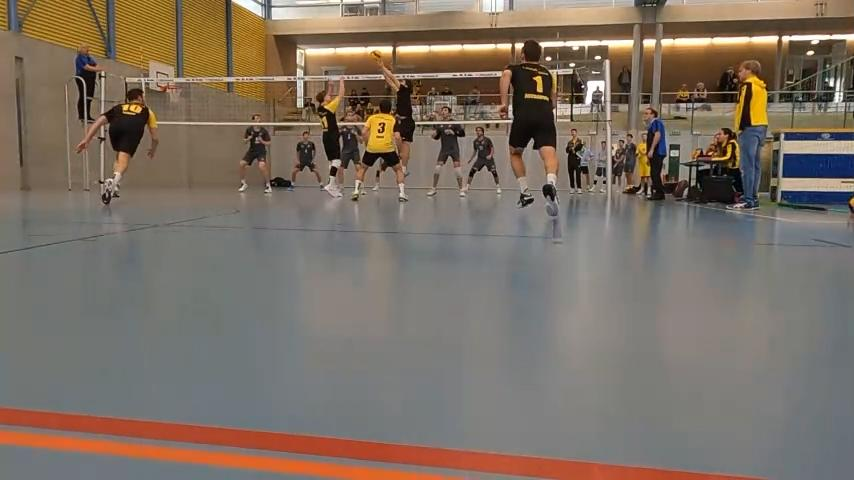alzata: (375, 60, 420, 176)
